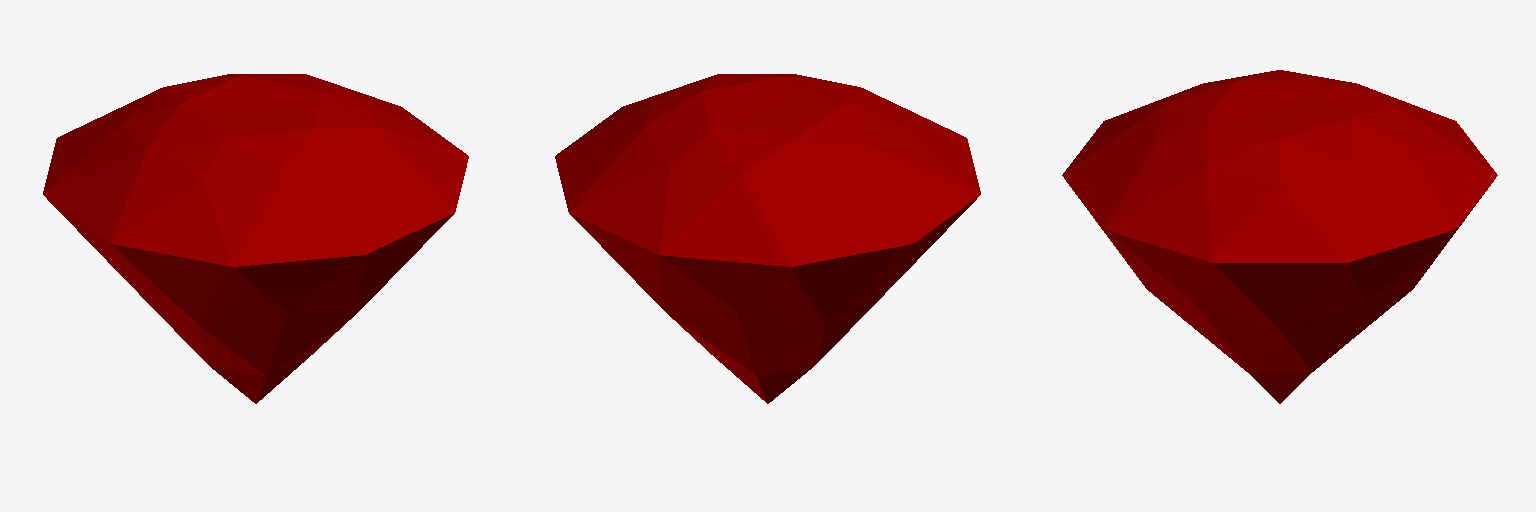
Rendered from rubyGem.obj.
3 views of the same model, side by side, from view 1: azimuth 30°, elevation 25°; view 2: azimuth 150°, elevation 25°; view 3: azimuth 270°, elevation 25° (orthographic).
Visible parts, largest first — view 1: Icosphere.001; view 2: Icosphere.001; view 3: Icosphere.001.
Boxes of the visible parts, box(x1,y1,x2,y2) form: Icosphere.001: box(43, 74, 468, 403); Icosphere.001: box(555, 74, 980, 403); Icosphere.001: box(1062, 70, 1497, 403).
Bounding box in the file's own units: 2.83 × 2.23 × 2.97.